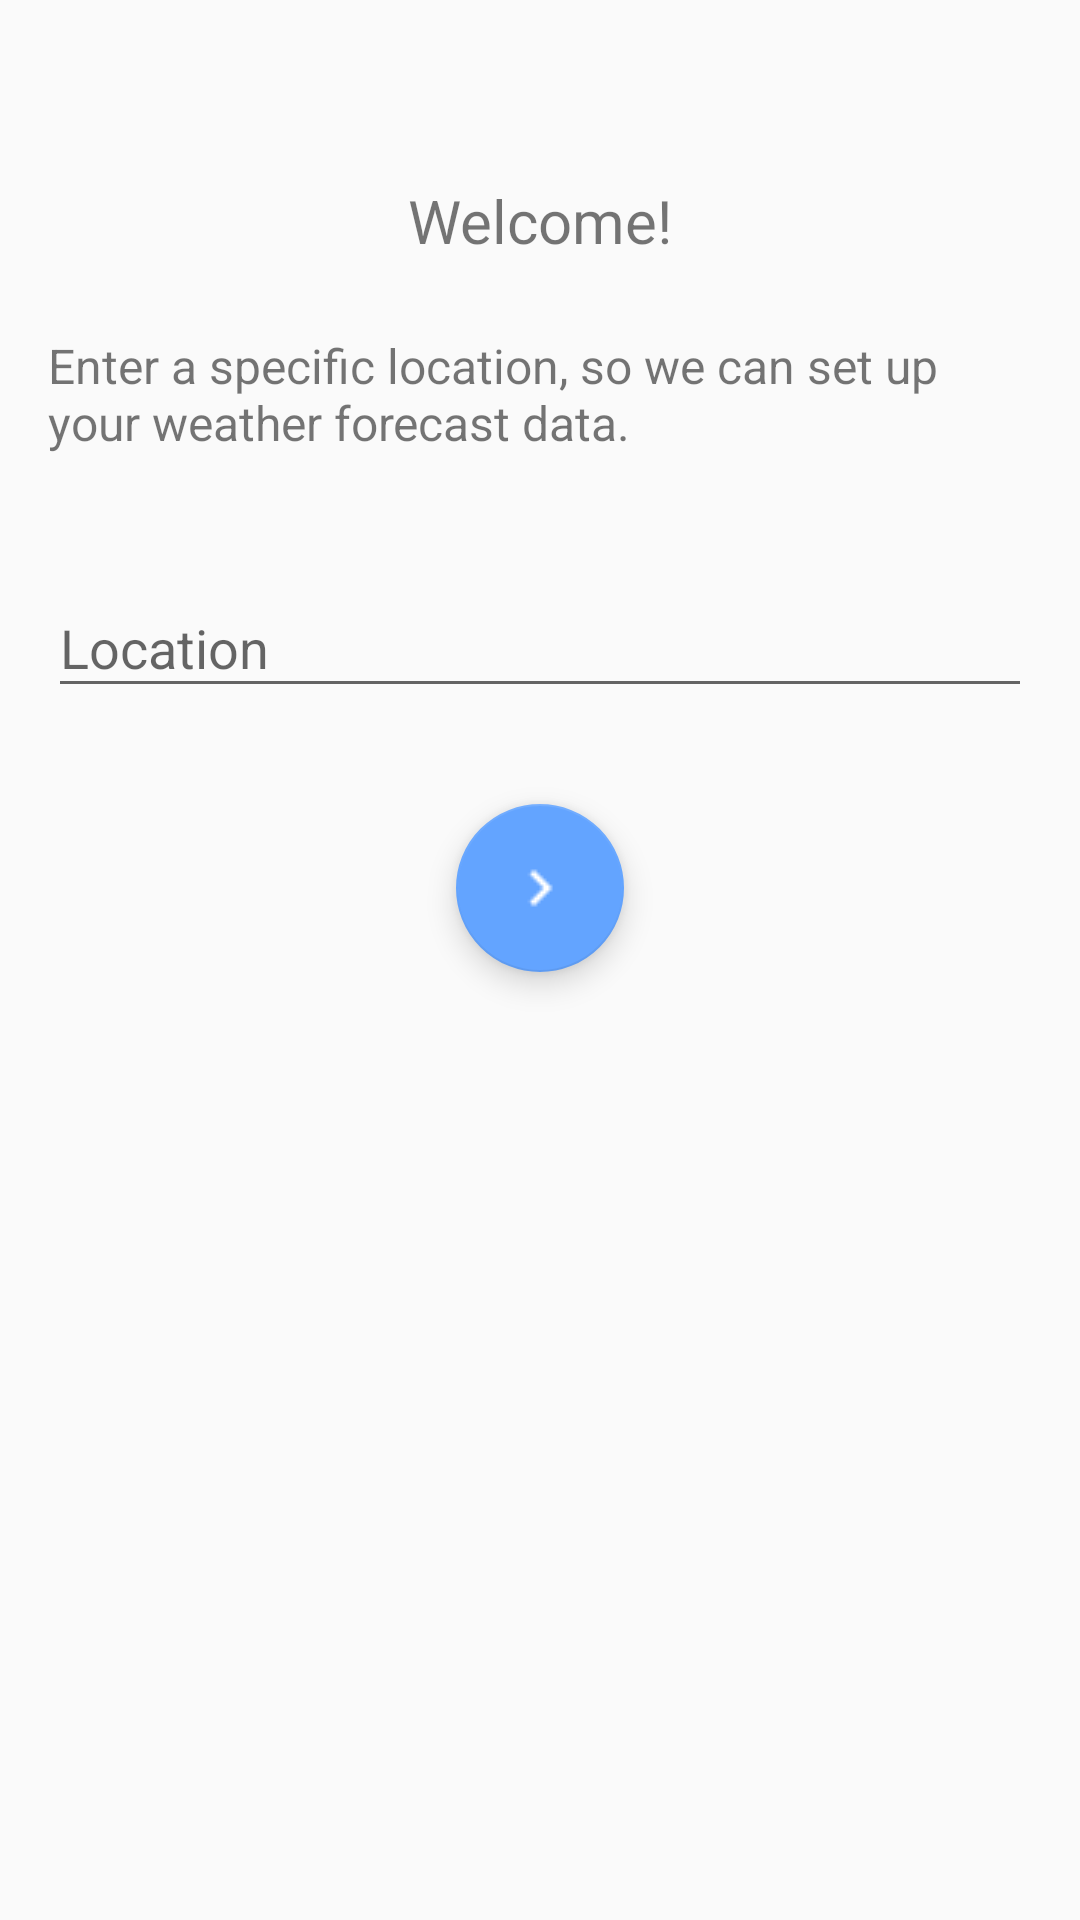

Where icons sit on this 1080px x 1920px app screen, as (x1, y1, x2, y2):
chevron right: (456, 804, 624, 972)
